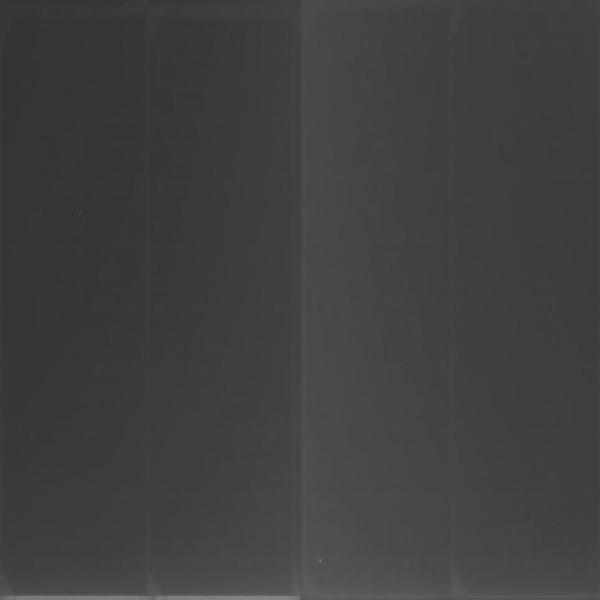no_electricity: (2, 1, 600, 600)
